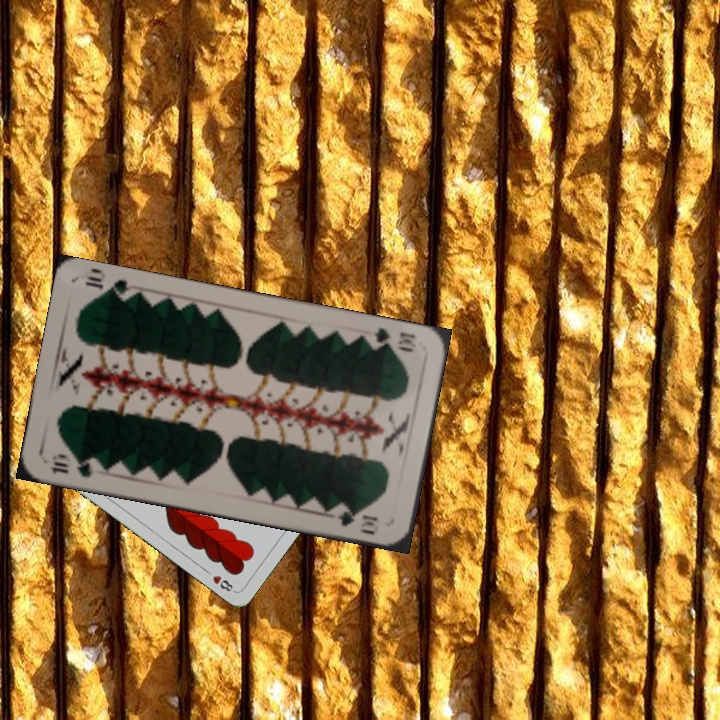G10: (362, 323, 418, 355), (47, 450, 95, 481)
